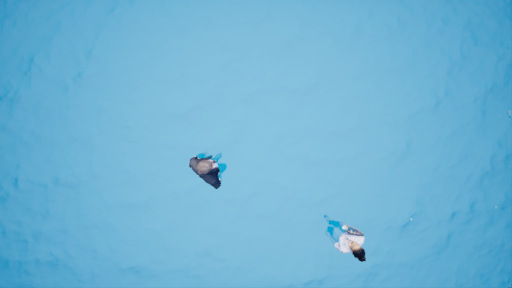person: (323, 216, 377, 264), (182, 149, 235, 191)
